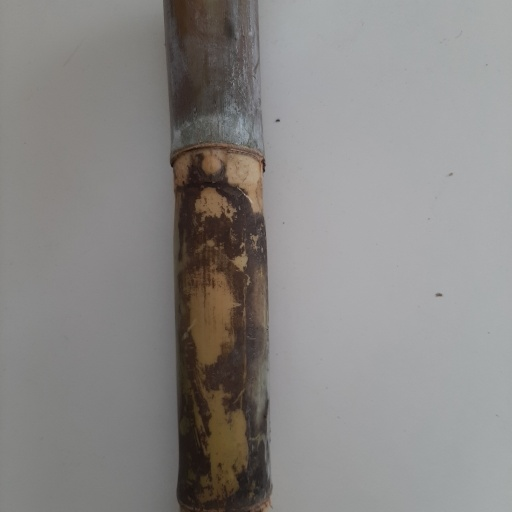Bud: (195, 152, 225, 182)
